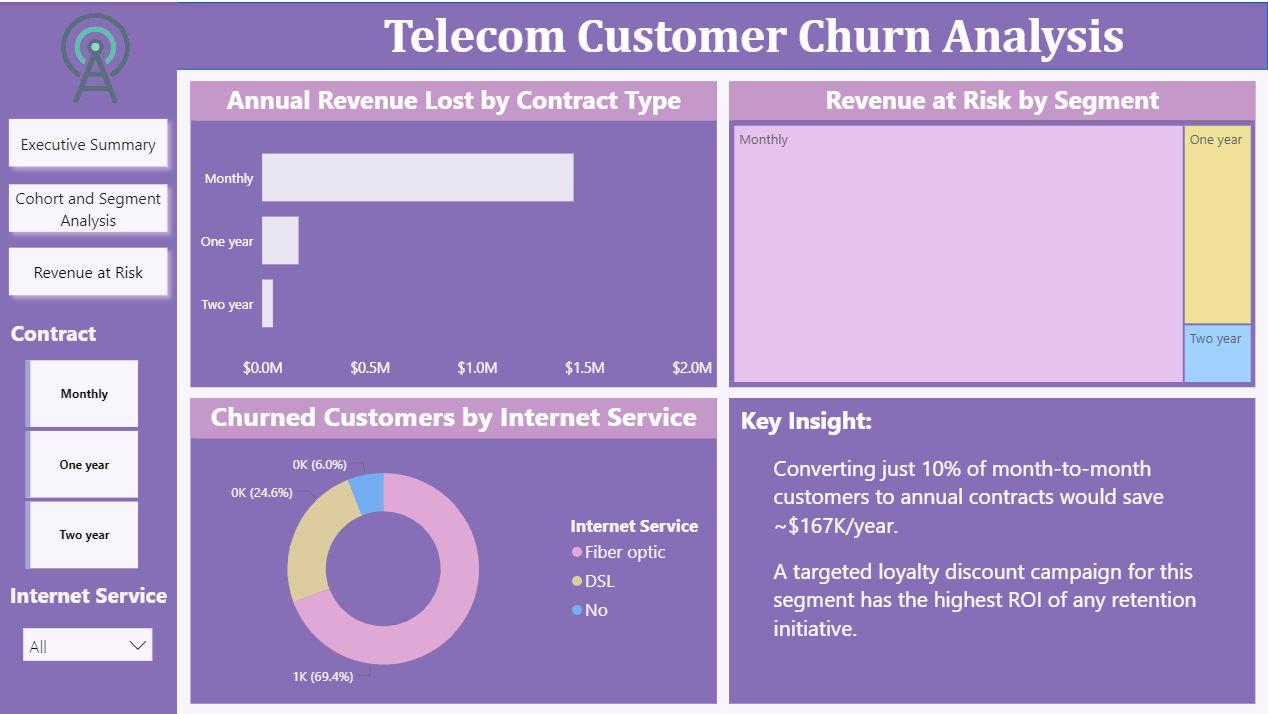

What the dashboard file says about the page in this screenshot:
{"tool":"powerbi","page":{"name":"Revenue at Risk","canvas":[1280,720],"ordinal":2},"visuals":[{"type":"shape","box":[735.9,399.8,531.5,308.9],"z":0},{"type":"shape","box":[735.9,80.3,531.5,308.9],"z":1000},{"type":"shape","box":[192.3,399.8,531.5,308.9],"z":2000},{"type":"shape","box":[192.3,80.3,531.5,308.9],"z":3000},{"type":"shape","box":[0,0,1280,68.3],"z":4000},{"type":"textbox","box":[252.9,0,1026.6,68.1],"z":5000},{"type":"shape","box":[0,0,178.7,719.2],"z":6000},{"type":"clusteredBarChart","title":" Annual Revenue Lost by Contract Type","fields":{"Category":["telco_churn_cleaned.contract"],"Y":["telco_churn_cleaned.Annual Rev at Risk"]},"box":[192.3,80.3,531.5,308.9],"z":7000},{"type":"donutChart","title":"Churned Customers by Internet Service","fields":{"Category":["telco_churn_cleaned.internetservice"],"Y":["telco_churn_cleaned.Total Churned"]},"box":[192.3,399.8,531.5,308.9],"z":8000},{"type":"treemap","title":" Revenue at Risk by Segment","fields":{"Group":["telco_churn_cleaned.contract"],"Values":["telco_churn_cleaned.Annual Rev at Risk"]},"box":[735.9,80.3,531.5,308.9],"z":9000},{"type":"textbox","box":[735.9,399.8,531.5,308.9],"z":10000},{"type":"slicer","fields":{"Values":["telco_churn_cleaned.internetservice"]},"box":[13.6,622.3,149.9,57.5],"z":11000},{"type":"pageNavigator","box":[0,109,178.7,195.3],"z":12000},{"type":"image","box":[0,0,192.3,118.1],"z":13000},{"type":"textbox","box":[0,313.4,137.8,42.4],"z":14000},{"type":"textbox","box":[0,578.4,178.7,43.9],"z":15000},{"type":"slicer","fields":{"Values":["telco_churn_cleaned.contract"]},"box":[0,354.3,163.5,224.1],"z":16000}]}

Visuals, with their boxes in screenshot pixels (x1, y1, x2, y2), scaled from the page's 1280x720 canvas onto the 1268x714 screenshot:
shape: [left=729, top=396, right=1256, bottom=703]
shape: [left=729, top=80, right=1256, bottom=386]
shape: [left=190, top=396, right=717, bottom=703]
shape: [left=190, top=80, right=717, bottom=386]
shape: [left=0, top=0, right=1267, bottom=68]
textbox: [left=251, top=0, right=1267, bottom=68]
shape: [left=0, top=0, right=177, bottom=713]
" Annual Revenue Lost by Contract Type" clusteredBarChart: [left=190, top=80, right=717, bottom=386]
"Churned Customers by Internet Service" donutChart: [left=190, top=396, right=717, bottom=703]
" Revenue at Risk by Segment" treemap: [left=729, top=80, right=1256, bottom=386]
textbox: [left=729, top=396, right=1256, bottom=703]
slicer - telco_churn_cleaned.internetservice: [left=13, top=617, right=162, bottom=674]
pageNavigator: [left=0, top=108, right=177, bottom=302]
image: [left=0, top=0, right=190, bottom=117]
textbox: [left=0, top=311, right=137, bottom=353]
textbox: [left=0, top=574, right=177, bottom=617]
slicer - telco_churn_cleaned.contract: [left=0, top=351, right=162, bottom=574]
